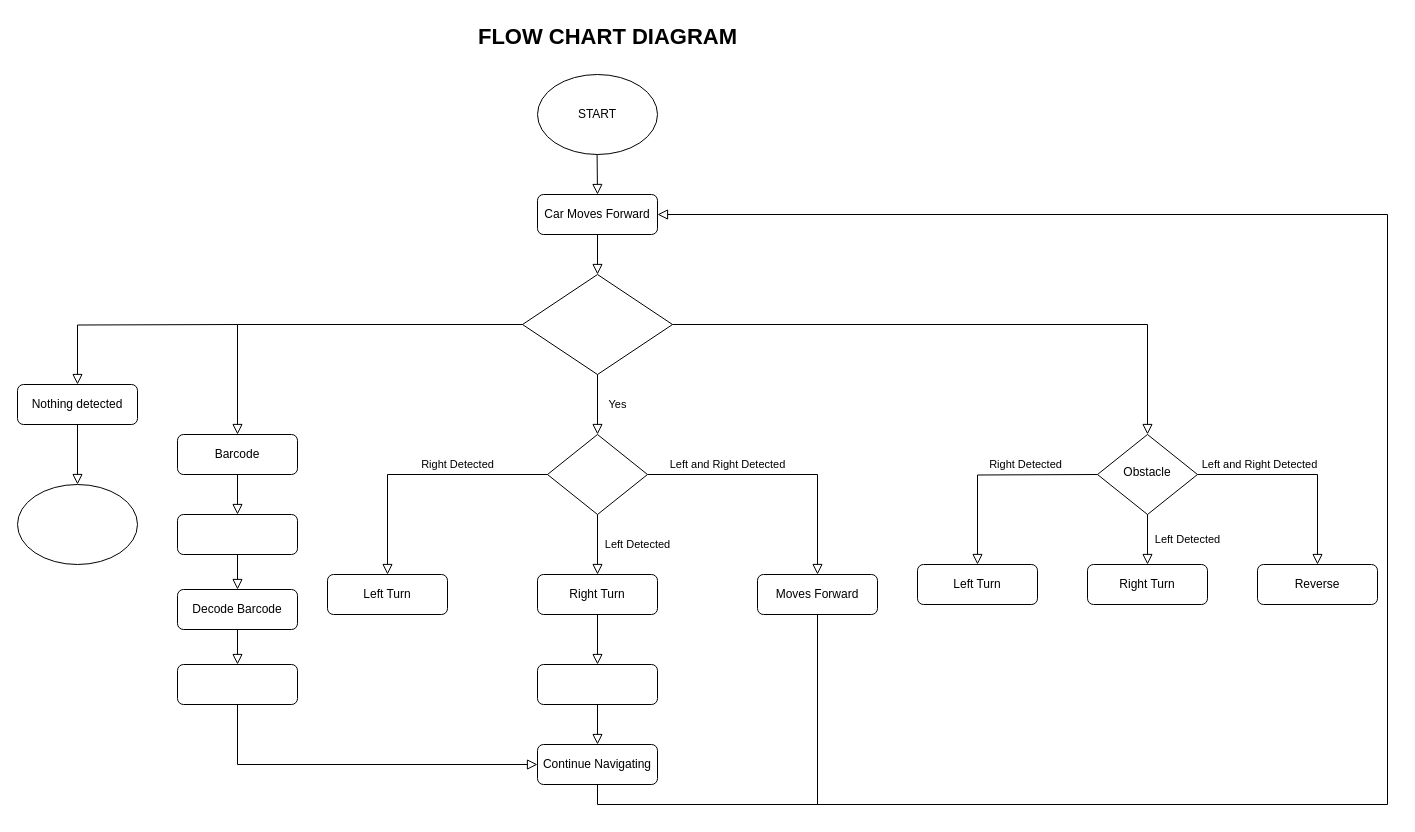
Some shapes in this 1415 by 832 pixel diagram are drawn without their labels. The centre of each missing label's shape, as x and y in pixels:
"Car exited maze" goes at (x=77, y=524).
"Car to turn 90 degrees" goes at (x=597, y=684).
"IR Sensor" goes at (x=597, y=474).
"IR, Barcode, Obstacle Detection" goes at (x=597, y=324).
"Read Barcode" goes at (x=237, y=534).
"Sends to GUI via WiFi" goes at (x=237, y=684).
